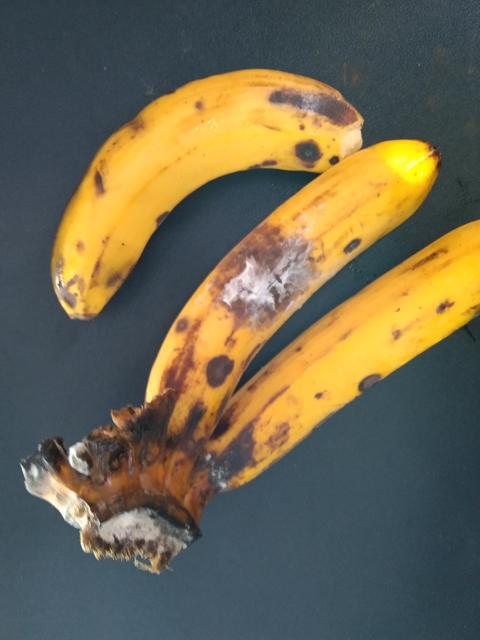overripe: (126, 120, 463, 422), (30, 57, 387, 317), (168, 214, 479, 501)
rotten: (177, 186, 316, 349)
